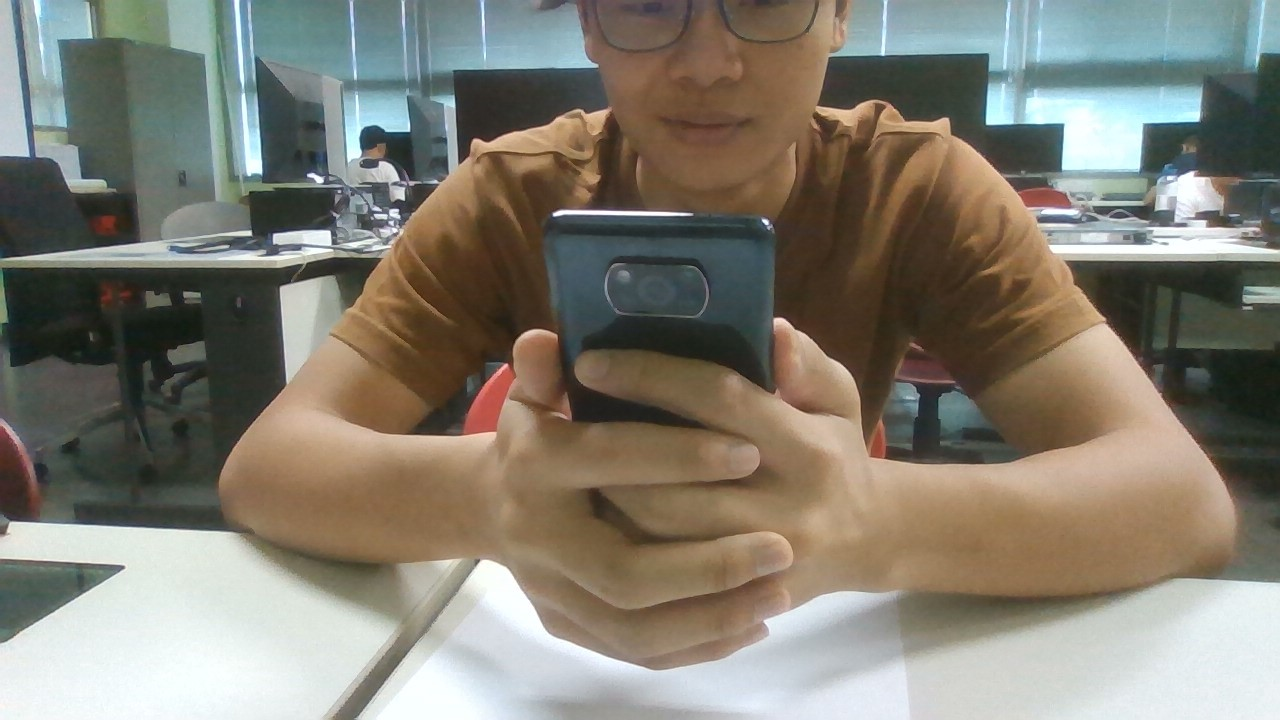phone: (543, 208, 775, 472)
